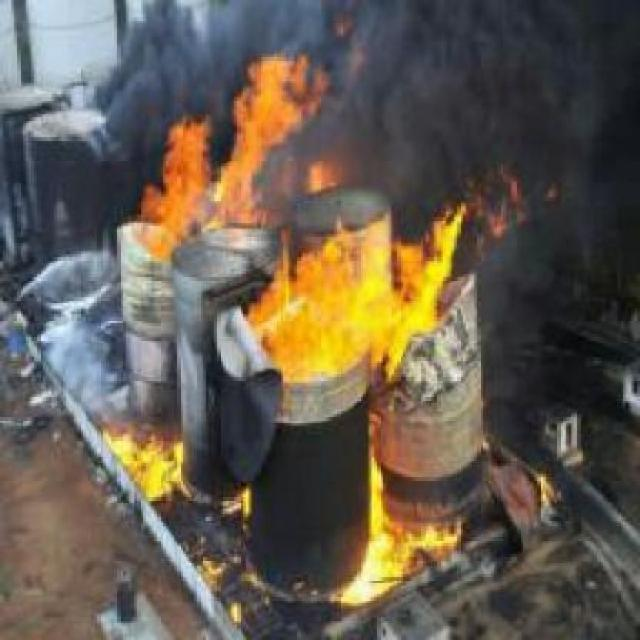Fire: (241, 202, 466, 372), (220, 50, 323, 224), (138, 116, 212, 258), (341, 460, 409, 610), (107, 420, 182, 508)
Smoke: (328, 0, 639, 202), (93, 2, 217, 115)
